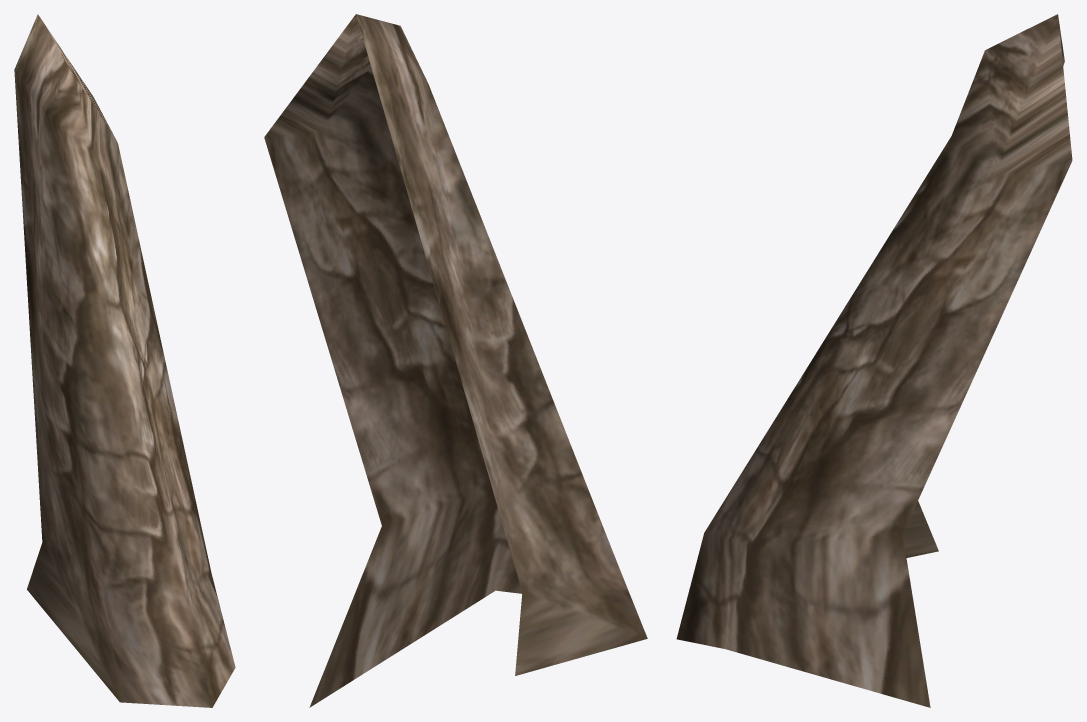
File: OVERHILL_A_01_ROCK24.fbx
The picture shows the model from 3 angles, left to right: view 1: azimuth 30°, elevation 25°; view 2: azimuth 150°, elevation 25°; view 3: azimuth 270°, elevation 25°; orthographic projection. The views are drawn at different scales.
Parts seen in each view (by area): view 1: OVERHILL_A_01_ROCK24; view 2: OVERHILL_A_01_ROCK24; view 3: OVERHILL_A_01_ROCK24.
Part boxes in pixels (<box>): OVERHILL_A_01_ROCK24: <box>14,14,235,707</box>; OVERHILL_A_01_ROCK24: <box>264,14,647,707</box>; OVERHILL_A_01_ROCK24: <box>676,14,1072,707</box>.
Bounding box in the file's own units: 16065 × 55734 × 31054.
1 material, 1 textured.
